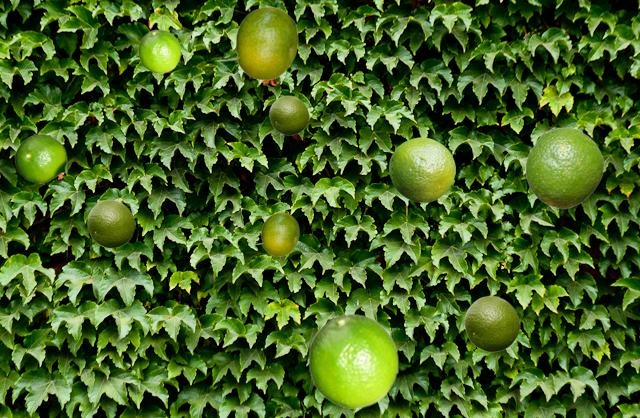calamansi: (308, 313, 398, 407), (525, 127, 603, 208), (214, 6, 297, 79), (389, 137, 454, 201), (464, 295, 519, 351), (14, 134, 72, 182), (87, 199, 134, 247), (248, 212, 298, 255), (138, 29, 180, 72), (269, 95, 308, 134)
